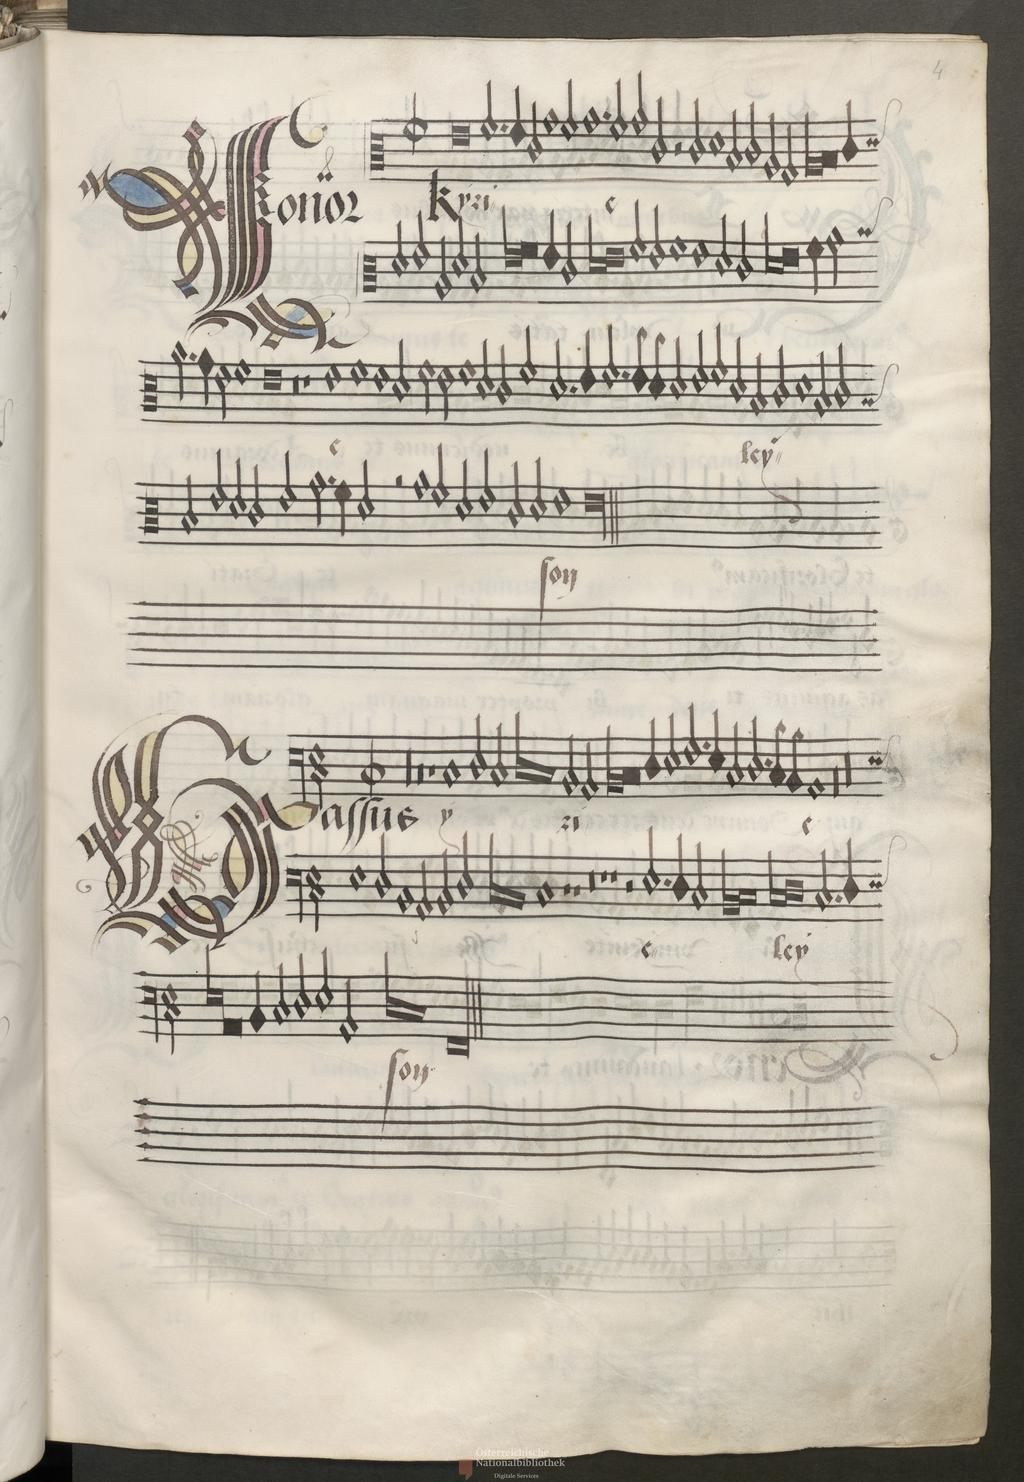barline: (470, 968, 491, 1050)
f clef_7: (137, 974, 184, 1057)
l1semibreve_6: (199, 944, 225, 1043)
l2colored semibreve_10: (219, 990, 244, 1041)
longa_12: (440, 972, 475, 1065)
minim_10: (333, 966, 360, 1045)
minim_6: (314, 968, 335, 1016)
minim_7: (291, 970, 314, 1026)
minim_8: (270, 953, 293, 1030)
o1semibreve_7: (375, 944, 406, 1037)
o2semibreve_8: (406, 944, 435, 1037)
semiminim_9: (246, 970, 270, 1042)
